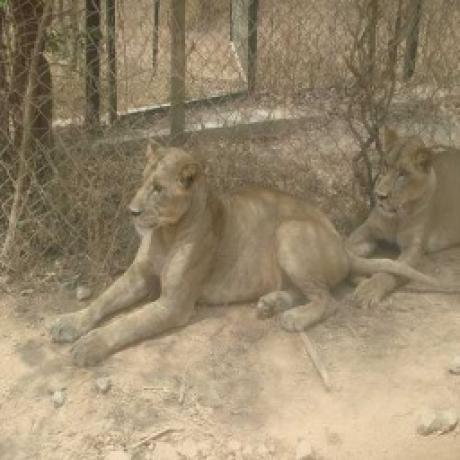Lion: (27, 138, 362, 362), (356, 109, 460, 260)
